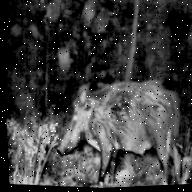boar: (45, 58, 191, 190)
